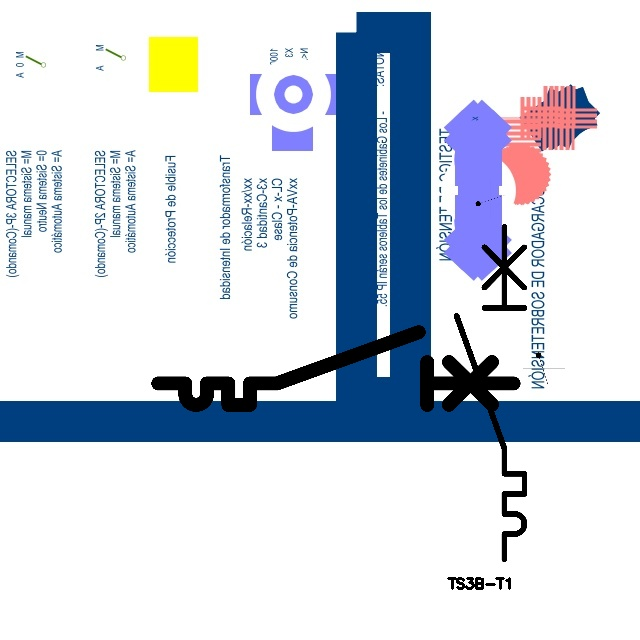interruptor_termomagnetico: (149, 323, 522, 414), (448, 218, 533, 567)
